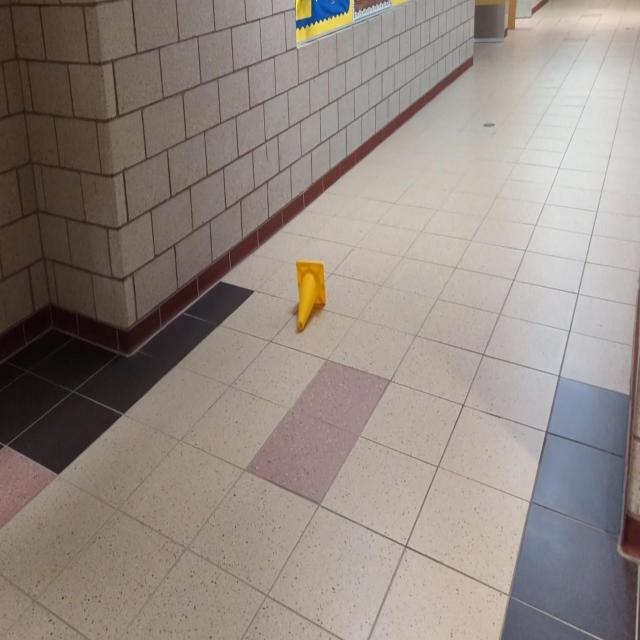frc_cone: (296, 261, 326, 332)
